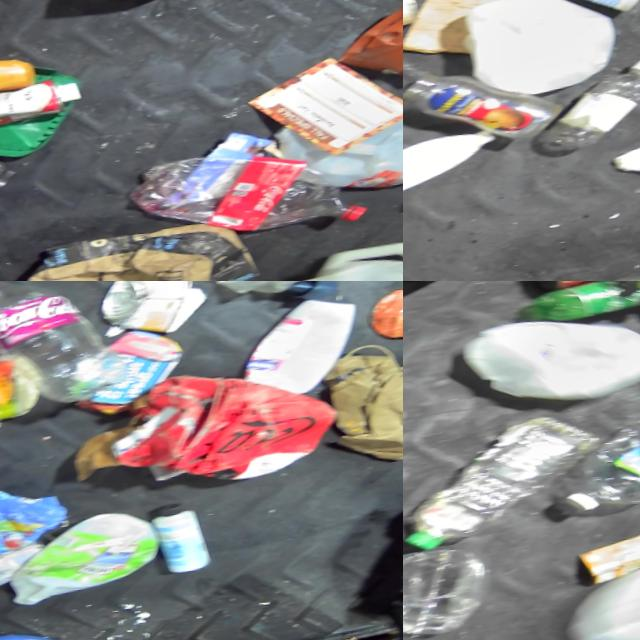can: (534, 281, 640, 303)
milk_jug: (443, 311, 640, 425), (263, 95, 403, 216), (0, 511, 148, 613), (0, 350, 47, 444)
plastic_bottle: (129, 141, 363, 263), (403, 418, 605, 553), (0, 281, 114, 419), (539, 67, 640, 163)
